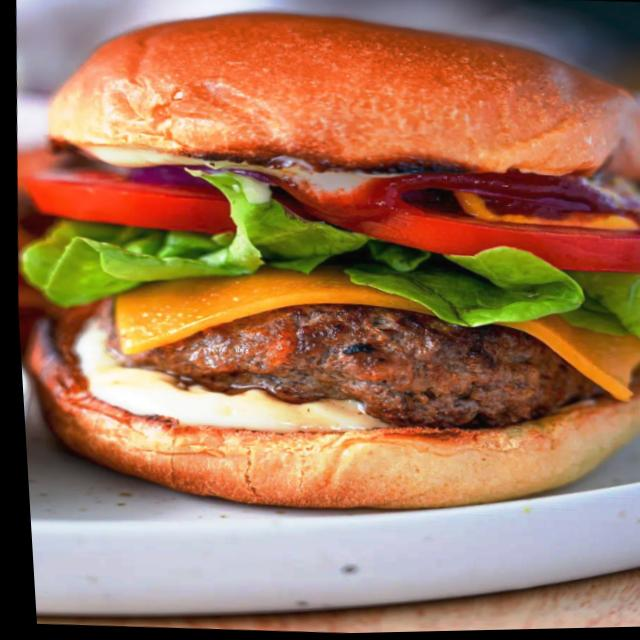burger: (0, 0, 640, 528)
